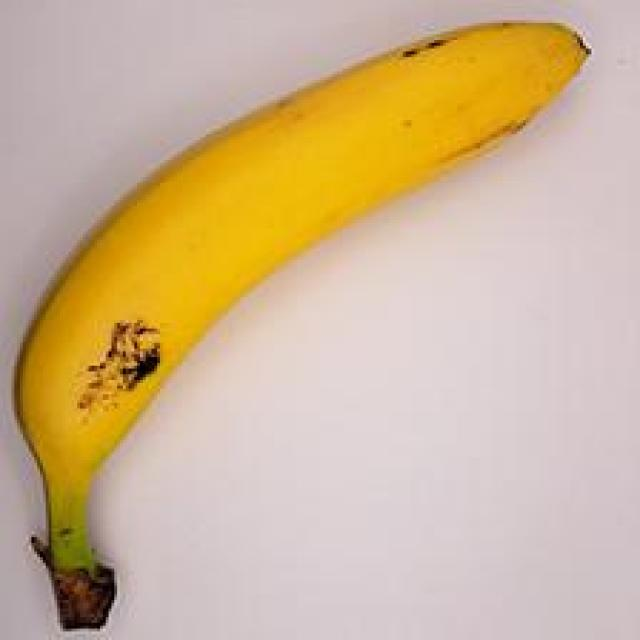ripe: (13, 12, 634, 640)
